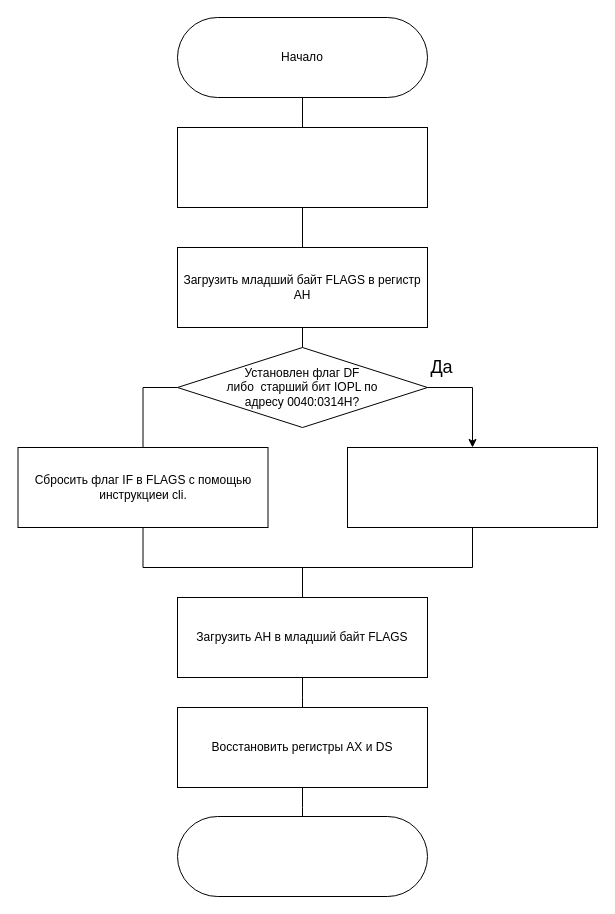
Some shapes in this 615 by 914 pixel diagram are drawn without their labels. Each missing label, with the box of its shape:
Конец: (176, 816, 428, 896)
Сбросить флаг IF по адресу 0040:0314h, с помощью зануления 9 бита.: (346, 446, 598, 528)
Сохранить регистры АХ и DS: (176, 126, 428, 208)
